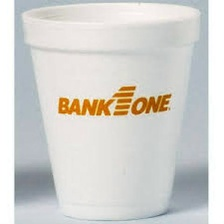paper_cup: (16, 0, 205, 224)
